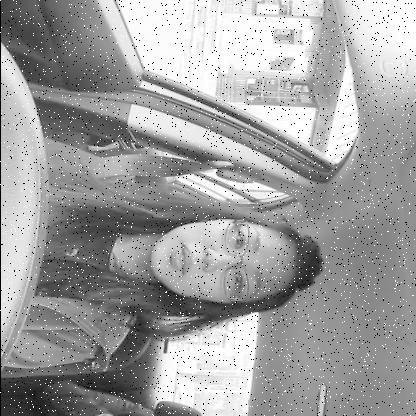seatbelt: (7, 152, 338, 312)
